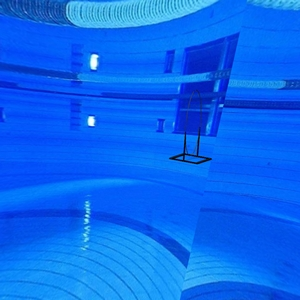circle: (168, 90, 213, 166)
